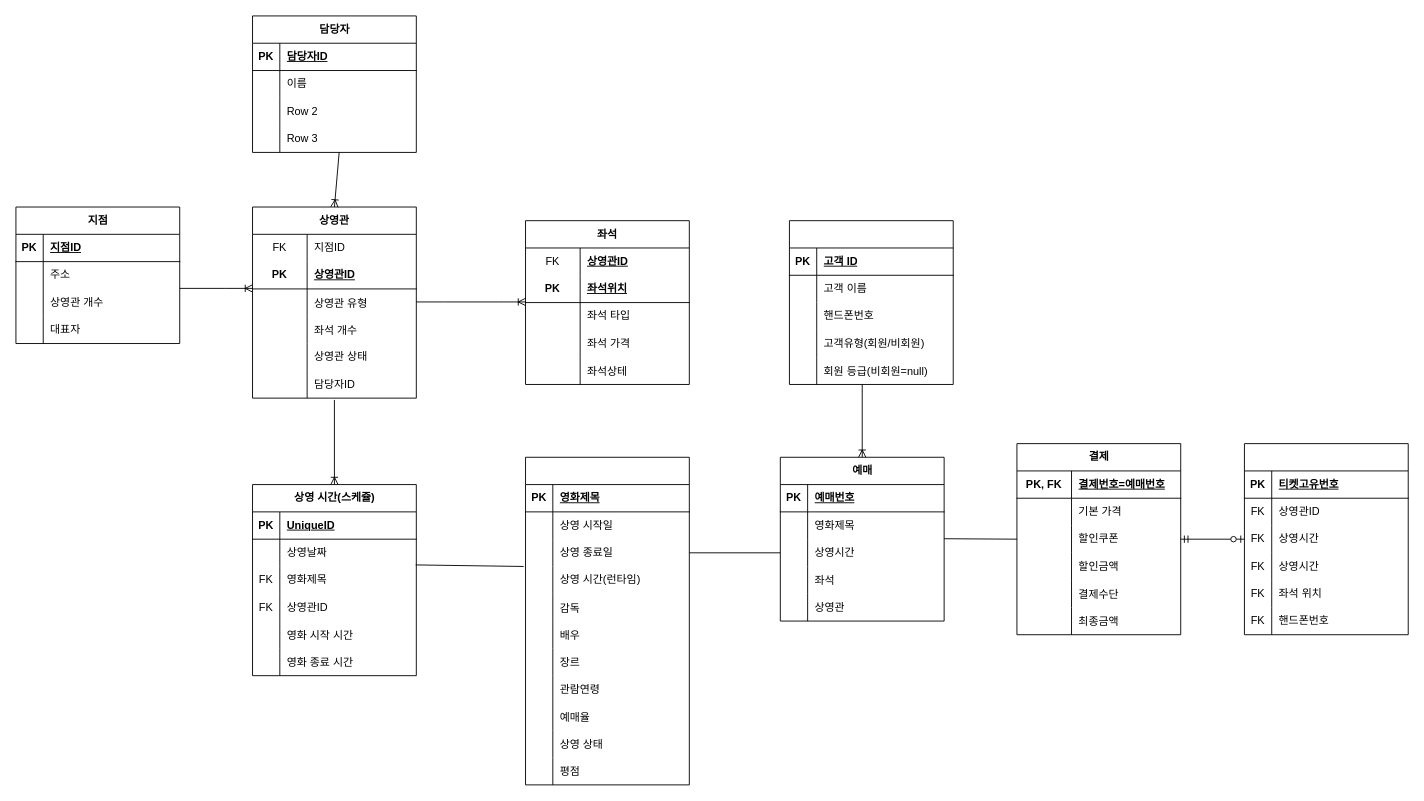
The diagram is 1424 pixels wide and 801 high, and some of its shapes have lost their labels. Here are the shapes that lost their labels. From the top down, the box of each, then its label:
(789, 220, 953, 384): 고객
(1244, 443, 1408, 635): 티켓
(525, 456, 689, 785): 영화
